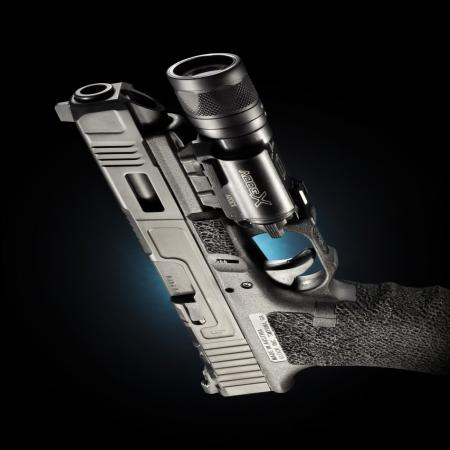Pistol: (52, 54, 448, 403)
